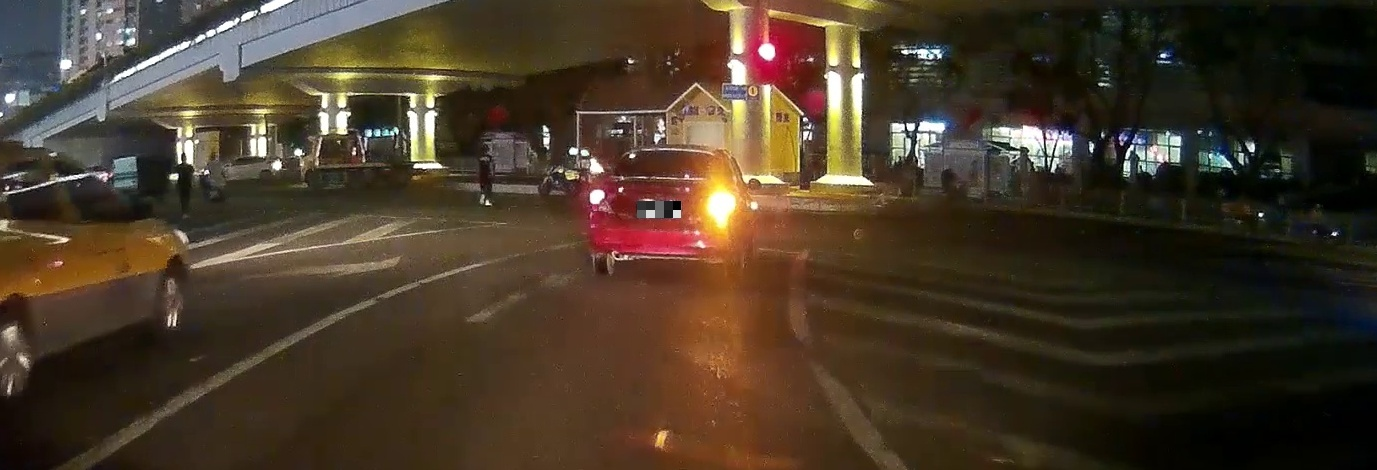L_light: (588, 188, 622, 212)
R_light: (694, 192, 735, 216)
T_light: (658, 149, 677, 156)
night-right: (587, 145, 746, 277)
plate_1: (637, 201, 681, 218)
